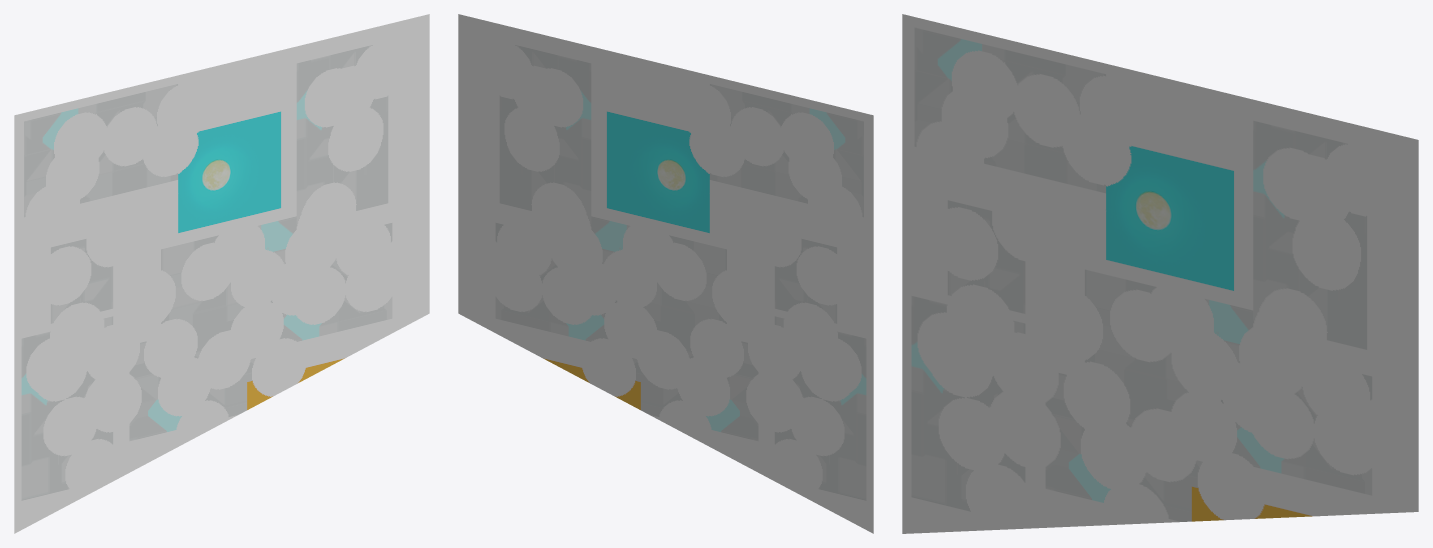
Rendered from HZC_NightMoon_fbx.FBX.
3 views of the same model, side by side, from view 1: azimuth 30°, elevation 25°; view 2: azimuth 150°, elevation 25°; view 3: azimuth 330°, elevation 25° (orthographic). The views are drawn at different scales.
Visible parts, largest first — view 1: Plane001; view 2: Plane001; view 3: Plane001.
Part boxes in pixels (x1,y1,x2,y2): Plane001: (14,14,429,533); Plane001: (458,14,873,533); Plane001: (902,14,1418,533).
Bounding box in the file's own units: 5.12 × 4.93 × 1.02e-06.
Materials: 1 (1 with a texture image).
